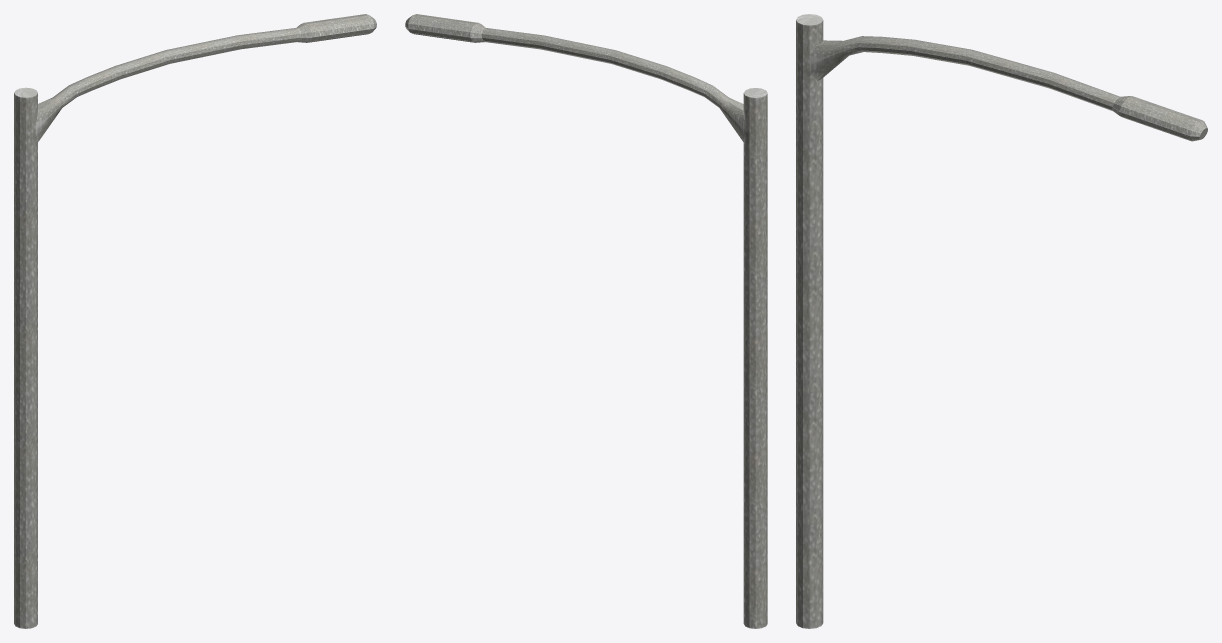
Rendered from Streetlight.fbx.
The picture shows the model from 3 angles, left to right: view 1: azimuth 30°, elevation 25°; view 2: azimuth 150°, elevation 25°; view 3: azimuth 330°, elevation 25°; orthographic projection. The views are drawn at different scales.
Parts seen in each view (by area): view 1: polySurface2; view 2: polySurface2; view 3: polySurface2.
Part boxes in pixels (bbox=[...]): polySurface2: bbox=[14, 14, 376, 628]; polySurface2: bbox=[405, 14, 767, 628]; polySurface2: bbox=[796, 14, 1207, 628].
Bounding box in the file's own units: 21.62 × 31.05 × 1.34.
Materials: 1 (1 with a texture image).
